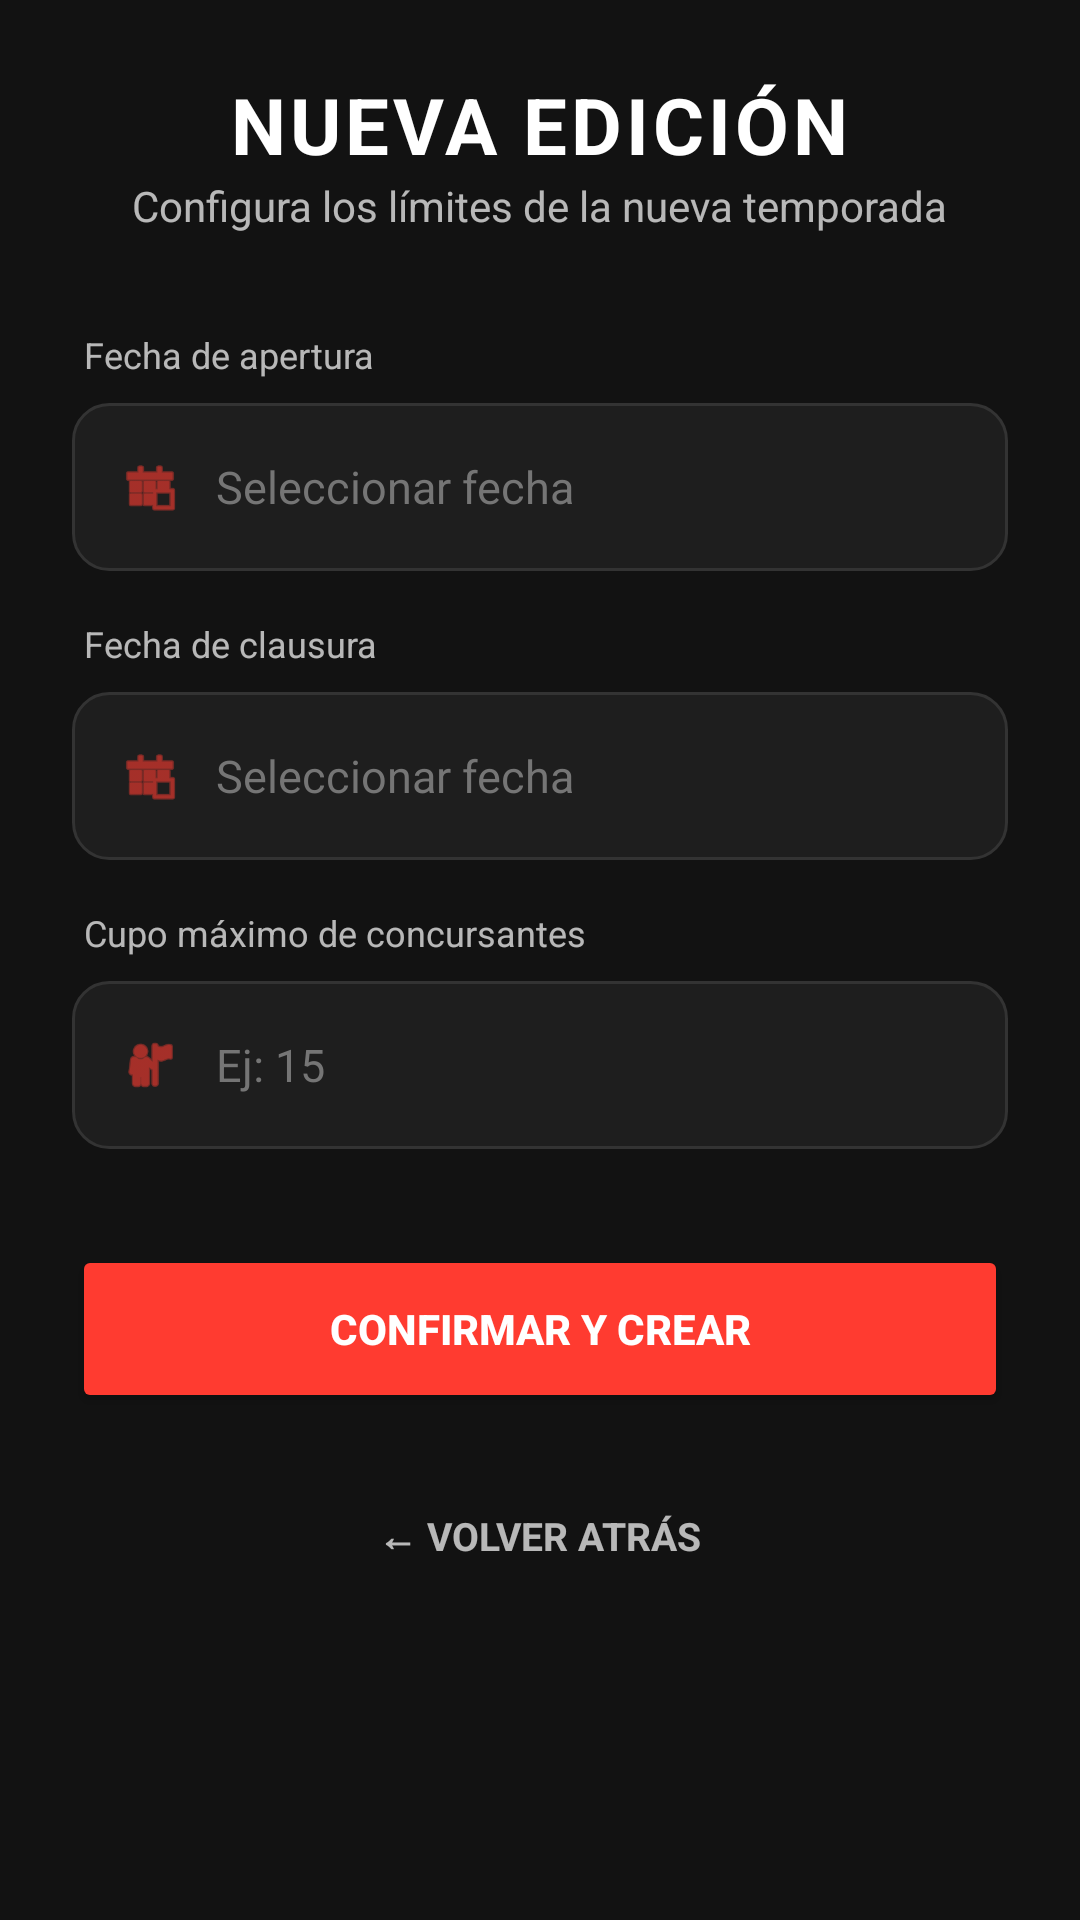

Icon bounding boxes for this 1080px×1920px phone screenshot, format [x1=x1, y1=y1, x2=x2, y2=y2]:
today: [x1=126, y1=465, x2=175, y2=511], [x1=126, y1=754, x2=175, y2=800]
